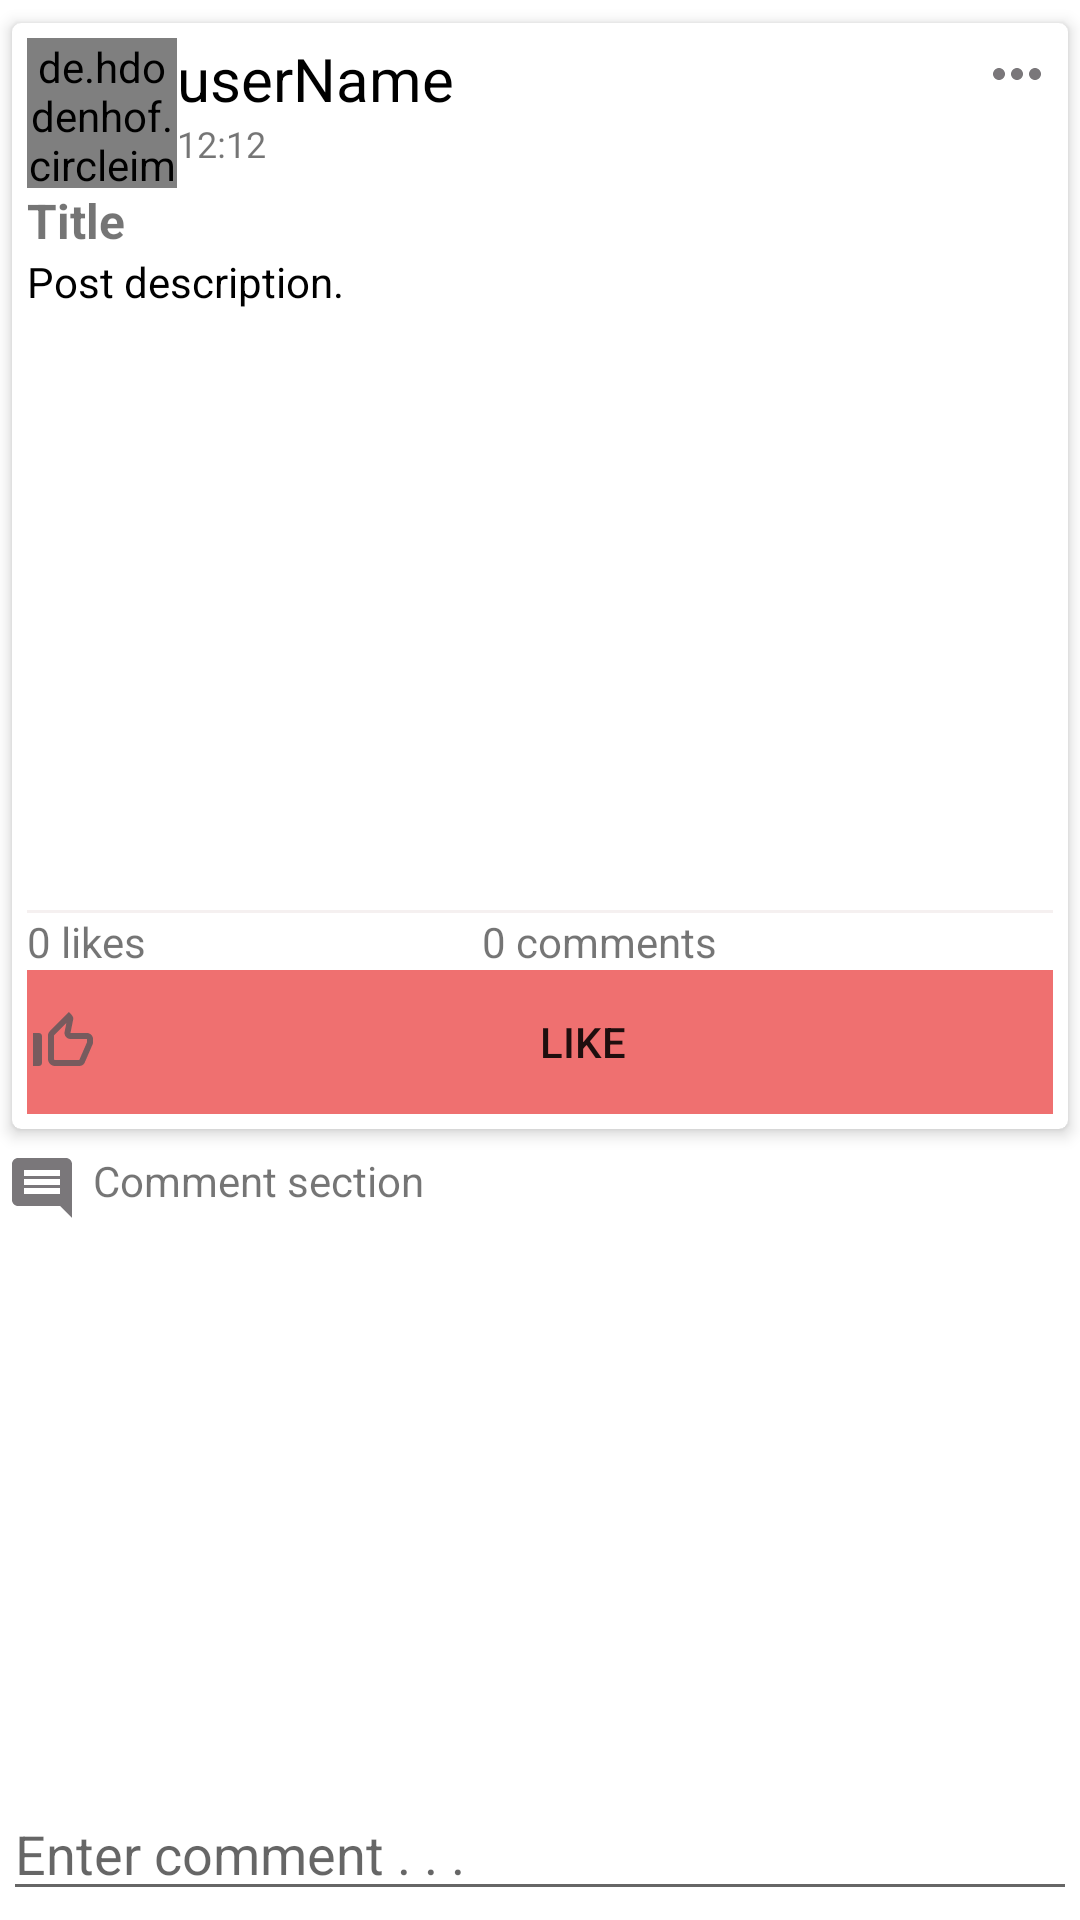

Icon click points for this 1080px x 1920px phone screenshot, format (x,y):
more horiz: (1017,74)
